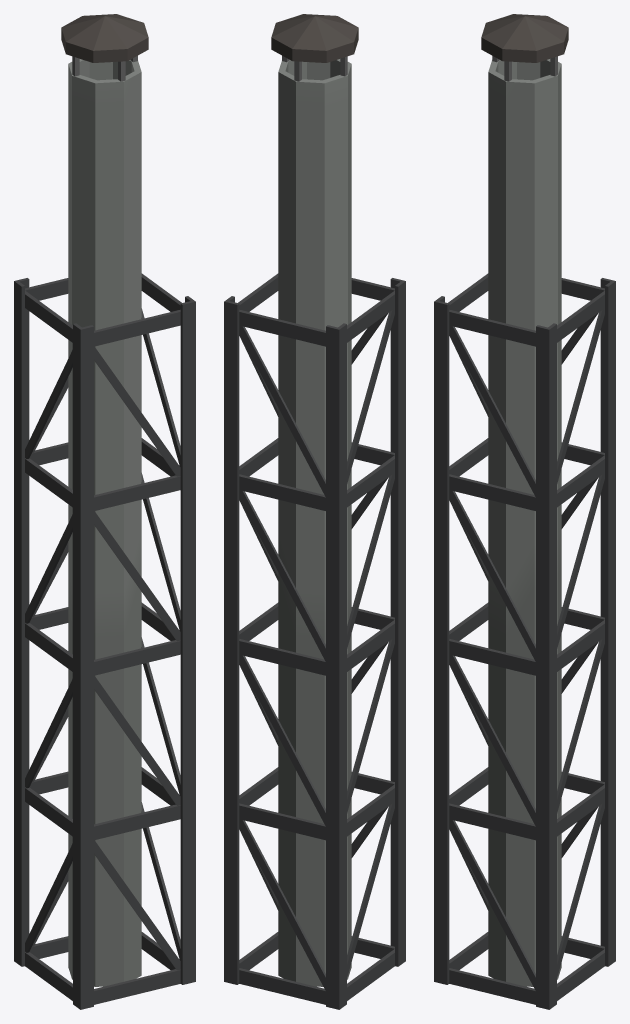
The model's file is SM_Props_Industrial_Chimney_04.fbx.
The picture shows the model from 3 angles, left to right: view 1: azimuth 30°, elevation 25°; view 2: azimuth 150°, elevation 25°; view 3: azimuth 330°, elevation 25°; orthographic projection.
Visible parts, largest first — view 1: SM_Props_Industrial_Chimney_04; view 2: SM_Props_Industrial_Chimney_04; view 3: SM_Props_Industrial_Chimney_04.
Boxes of the visible parts, x1,y1,x2,y2 form: SM_Props_Industrial_Chimney_04: (14, 14, 195, 1009); SM_Props_Industrial_Chimney_04: (224, 14, 405, 1009); SM_Props_Industrial_Chimney_04: (434, 14, 615, 1009).
Bounding box in the file's own units: 88 × 697 × 88.
